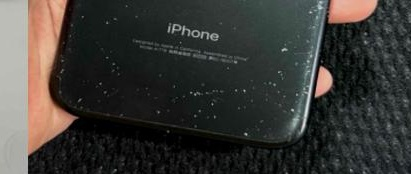scratch: (51, 0, 363, 147)
